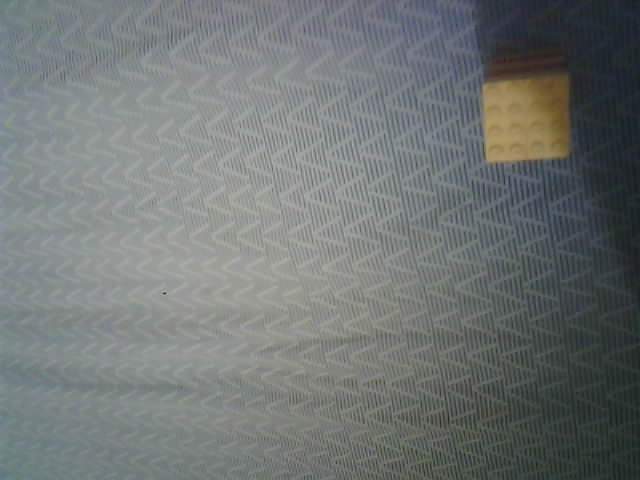lego: (478, 49, 573, 164)
